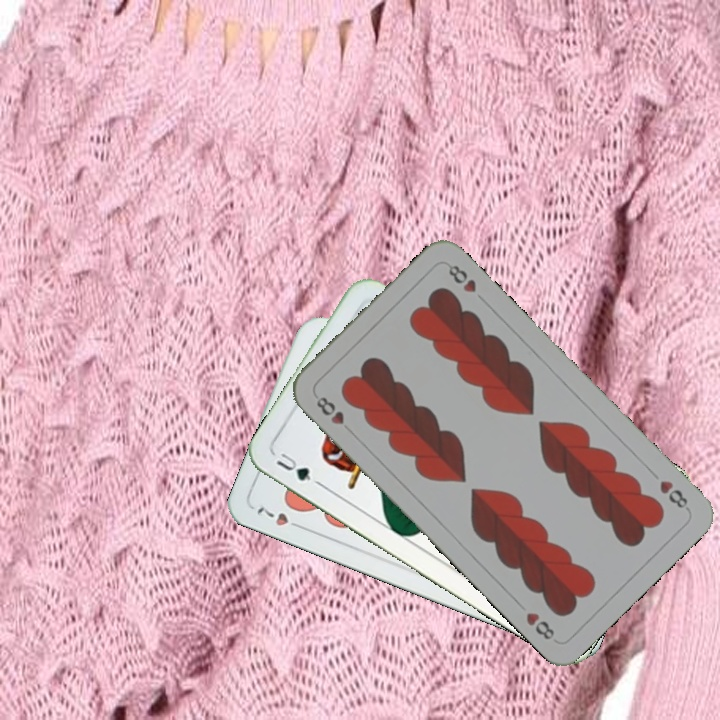GU: (272, 448, 323, 488)
H7: (252, 502, 307, 532)
H8: (312, 392, 356, 437), (655, 476, 692, 513)
